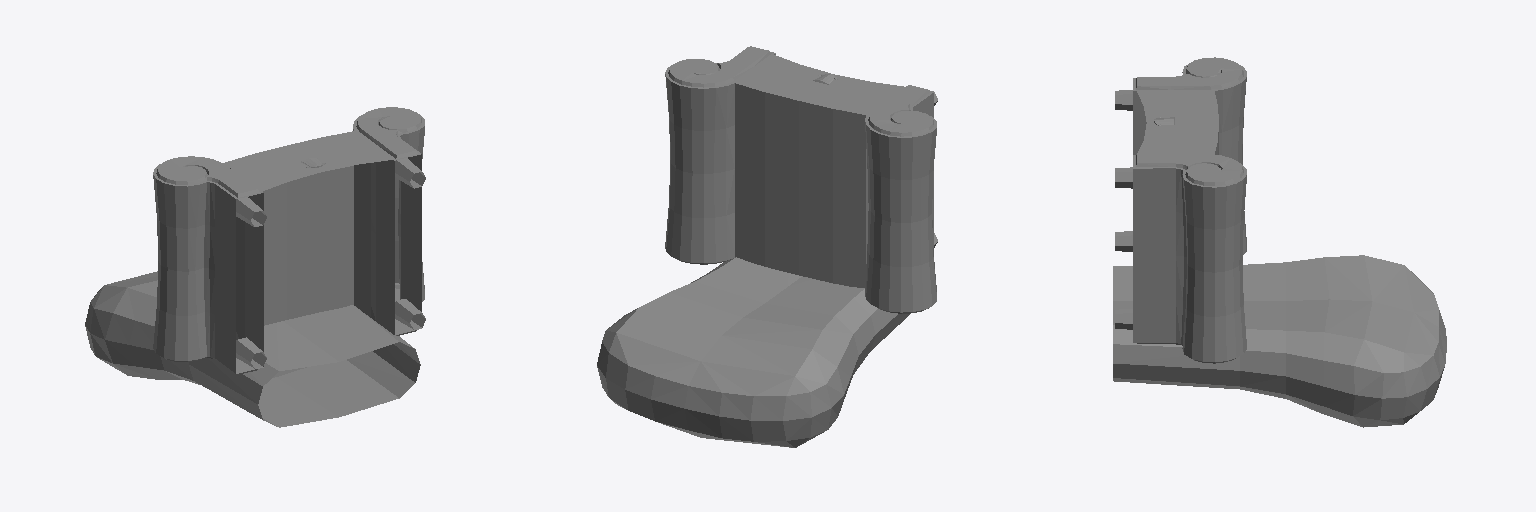
Rendered from HomeChairL.obj.
3 views of the same model, side by side, from view 1: azimuth 30°, elevation 25°; view 2: azimuth 150°, elevation 25°; view 3: azimuth 270°, elevation 25° (orthographic).
Visible parts, largest first — view 1: ChairL__BodyLMT; view 2: ChairL__BodyLMT; view 3: ChairL__BodyLMT.
Part boxes in pixels (bbox=[...]): ChairL__BodyLMT: bbox=[85, 107, 425, 427]; ChairL__BodyLMT: bbox=[597, 46, 937, 447]; ChairL__BodyLMT: bbox=[1113, 57, 1446, 427].
Bounding box in the file's own units: 173 × 170 × 189.